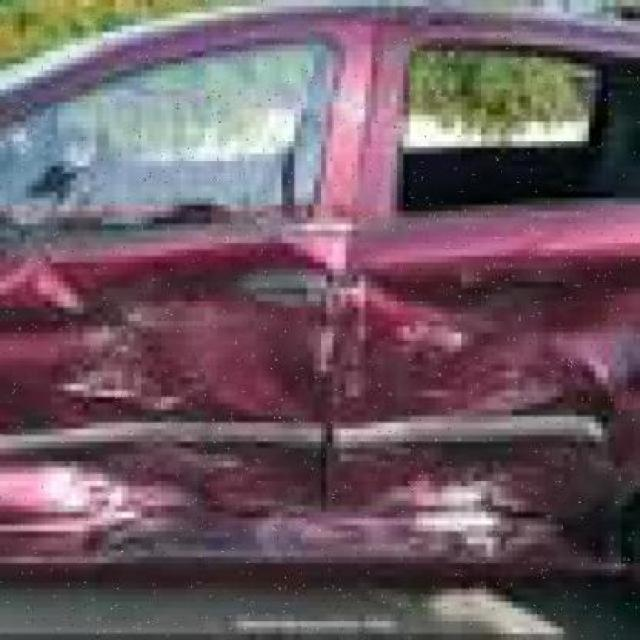doorouter-dent: (0, 235, 340, 571), (352, 231, 634, 570)
pillar-dent: (314, 31, 417, 230)
